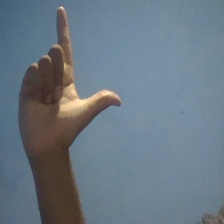L: (15, 4, 125, 157)
